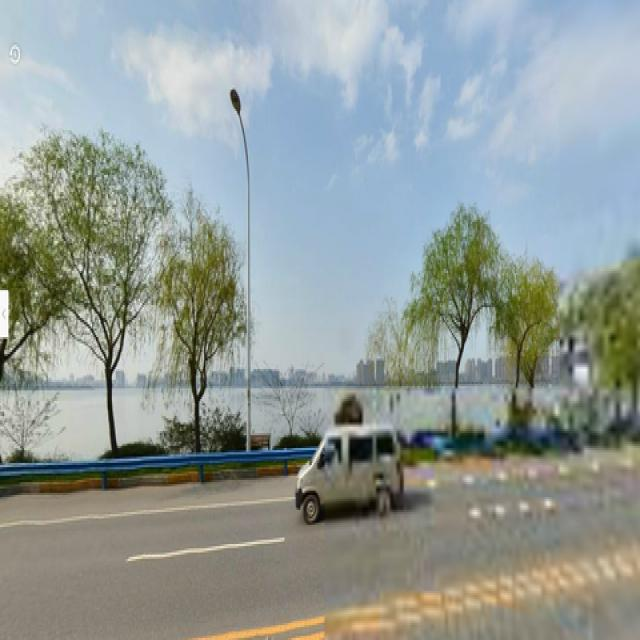plat: (157, 202, 240, 443)
